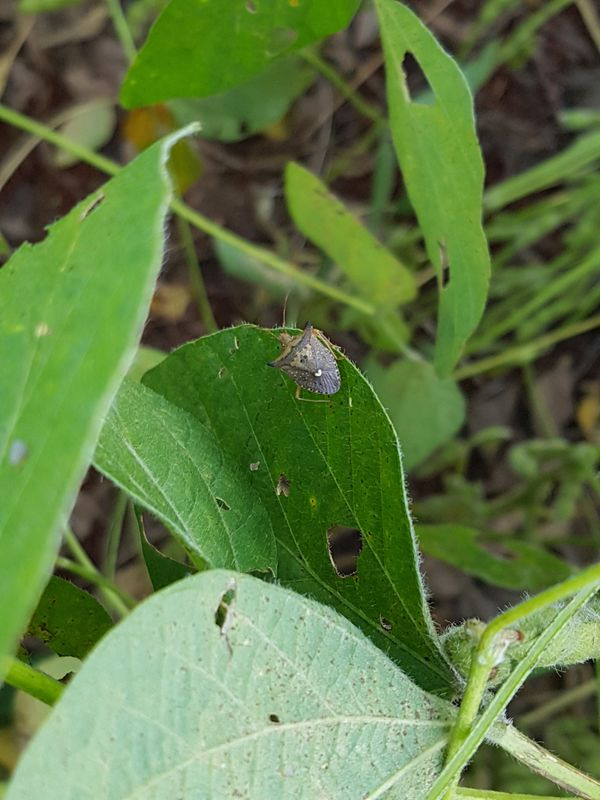Euschistus_heros_adulto: (221, 275, 368, 428)
